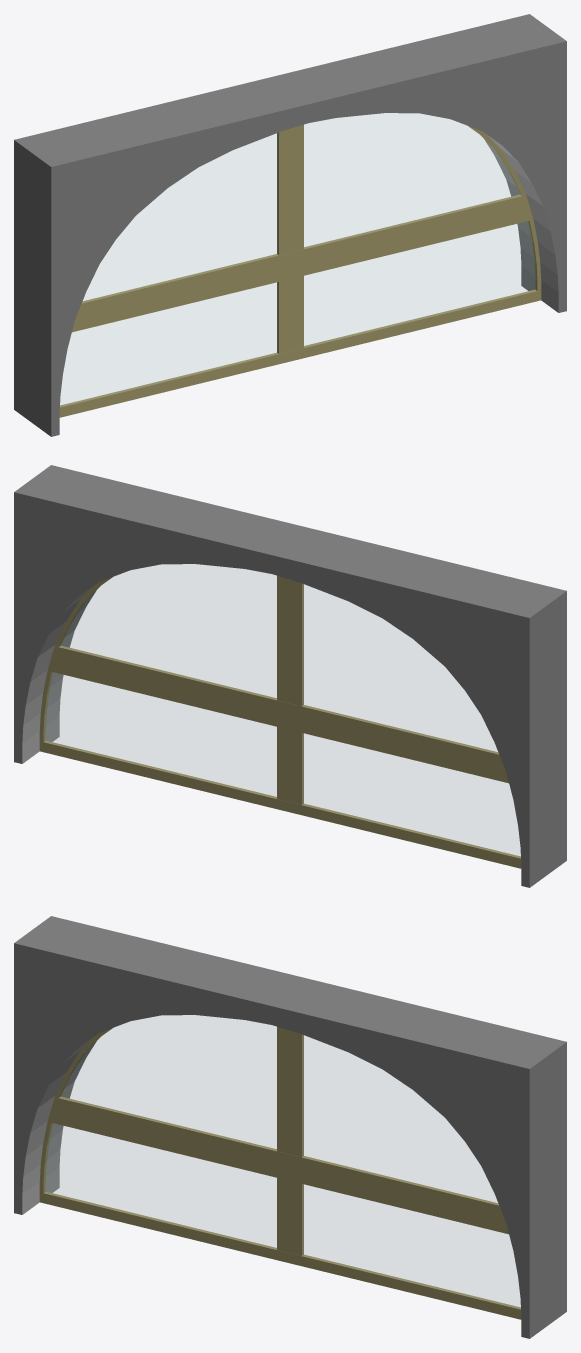
File: ArcWindow.fbx
The picture shows the model from 3 angles, top to bottom: view 1: azimuth 30°, elevation 25°; view 2: azimuth 150°, elevation 25°; view 3: azimuth 330°, elevation 25°; orthographic projection.
Visible parts, largest first — view 1: ArcWindow; view 2: ArcWindow; view 3: ArcWindow.
Boxes of the visible parts, x1,y1,x2,y2 form: ArcWindow: [14, 14, 566, 436]; ArcWindow: [14, 465, 566, 887]; ArcWindow: [14, 916, 566, 1338].
Bounding box in the file's own units: 1600 × 800 × 200.
